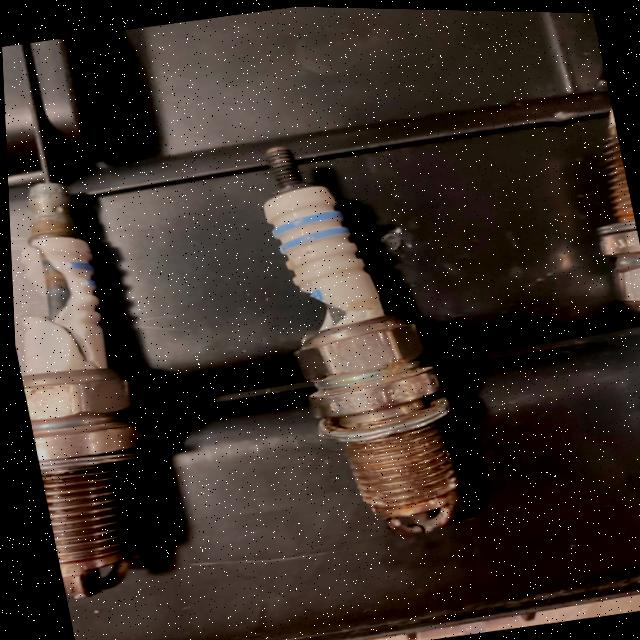damaged_spark-plug: (228, 110, 481, 558), (6, 159, 183, 602)
